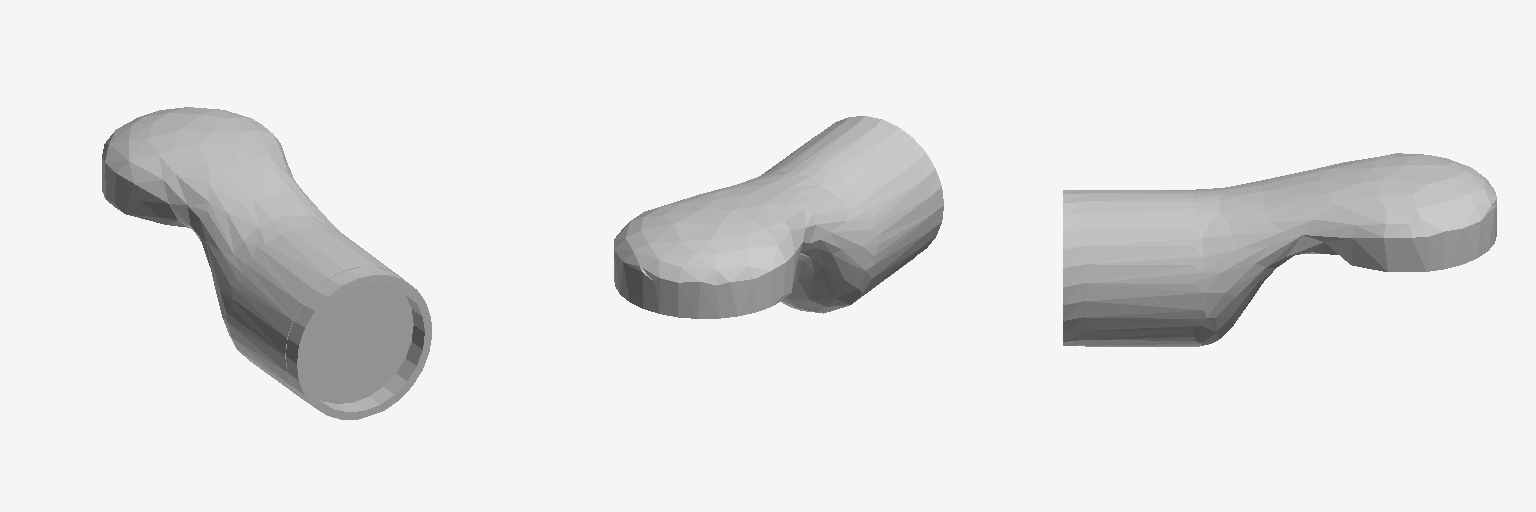
File: dual_rm_75b_description_r_link2_collisions_r_link2_mesh.obj
3 renders of one model, left to right at view 1: azimuth 30°, elevation 25°; view 2: azimuth 150°, elevation 25°; view 3: azimuth 270°, elevation 25°, orthographic.
Size of the model in its own units: 0.081 by 0.0816 by 0.193.